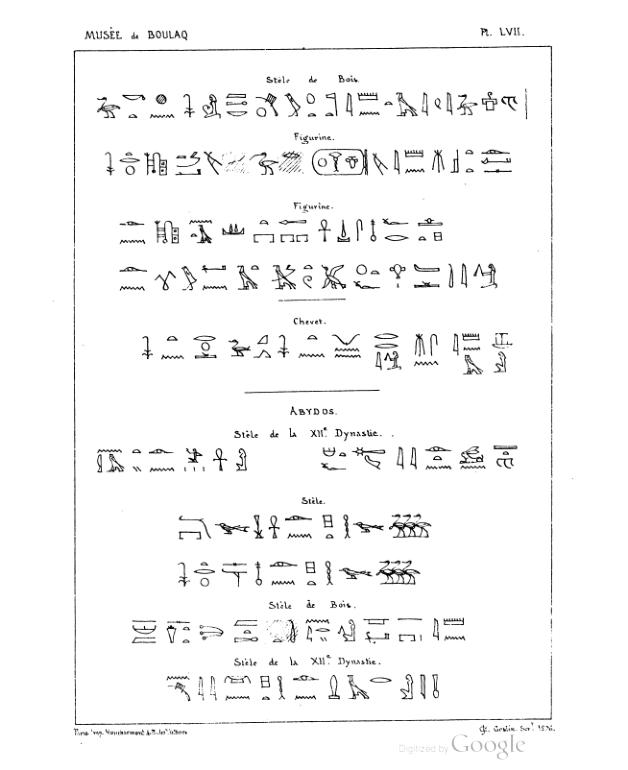circle: (310, 145, 372, 179)
